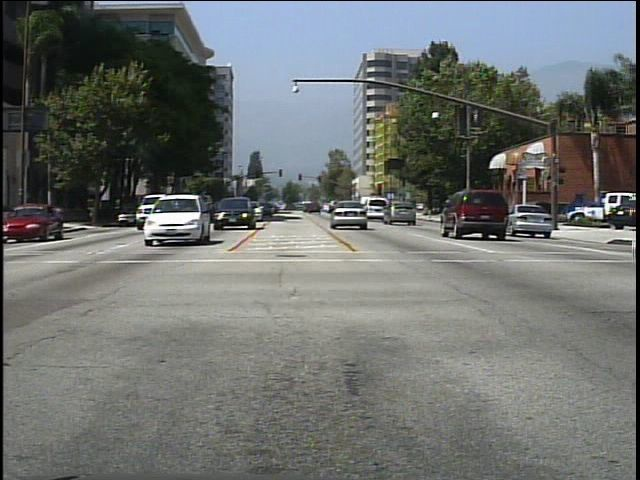person: (481, 194, 500, 229), (442, 193, 460, 228)
